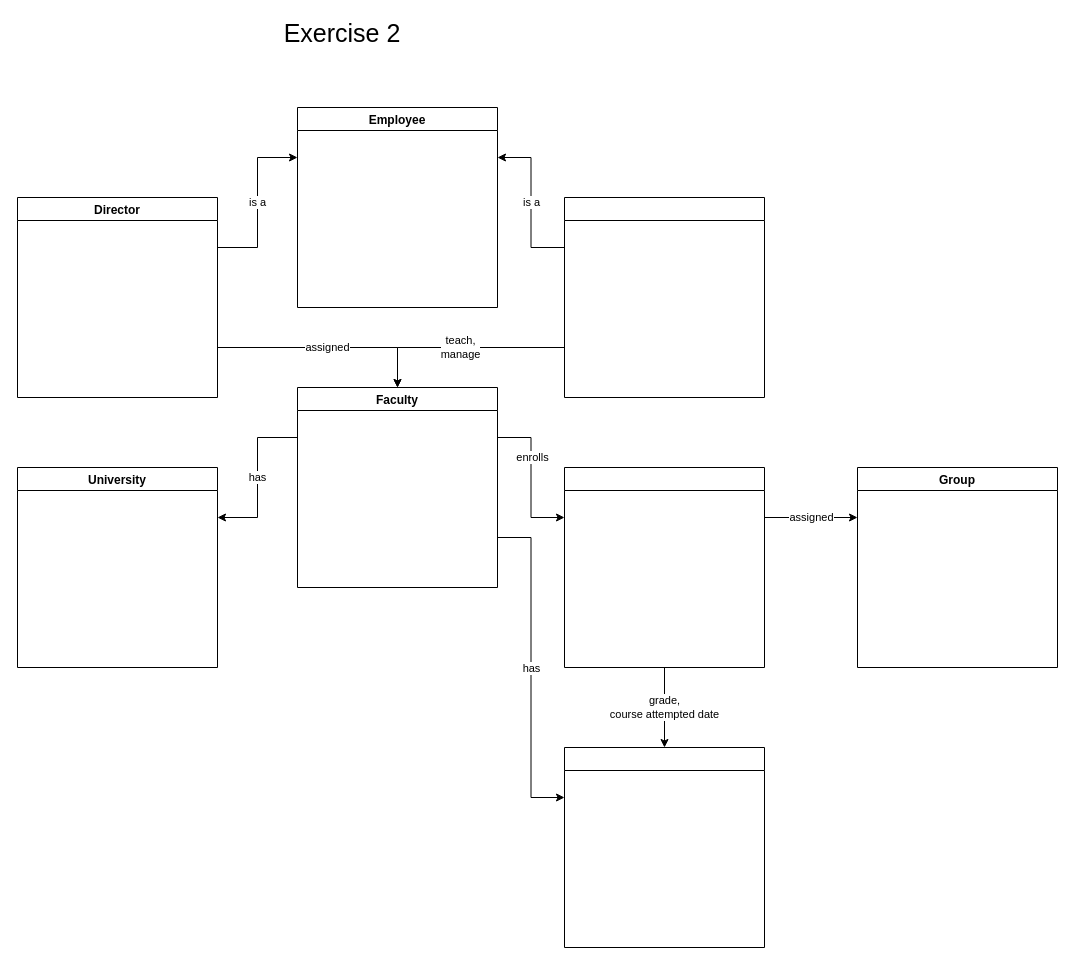
Some shapes in this 1075 by 965 pixel diagram are drawn without their labels. The centre of each missing label's shape, as x and y in pixels:
Cource: the point at 664,847
Professor: the point at 664,297
Student: the point at 664,567
